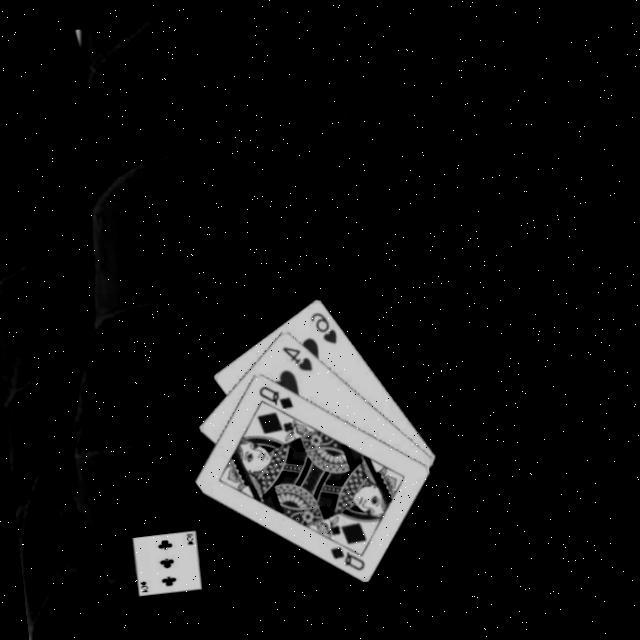4H: (278, 339, 316, 377)
6H: (306, 307, 340, 348)
QD: (326, 539, 368, 576), (253, 379, 296, 415)
